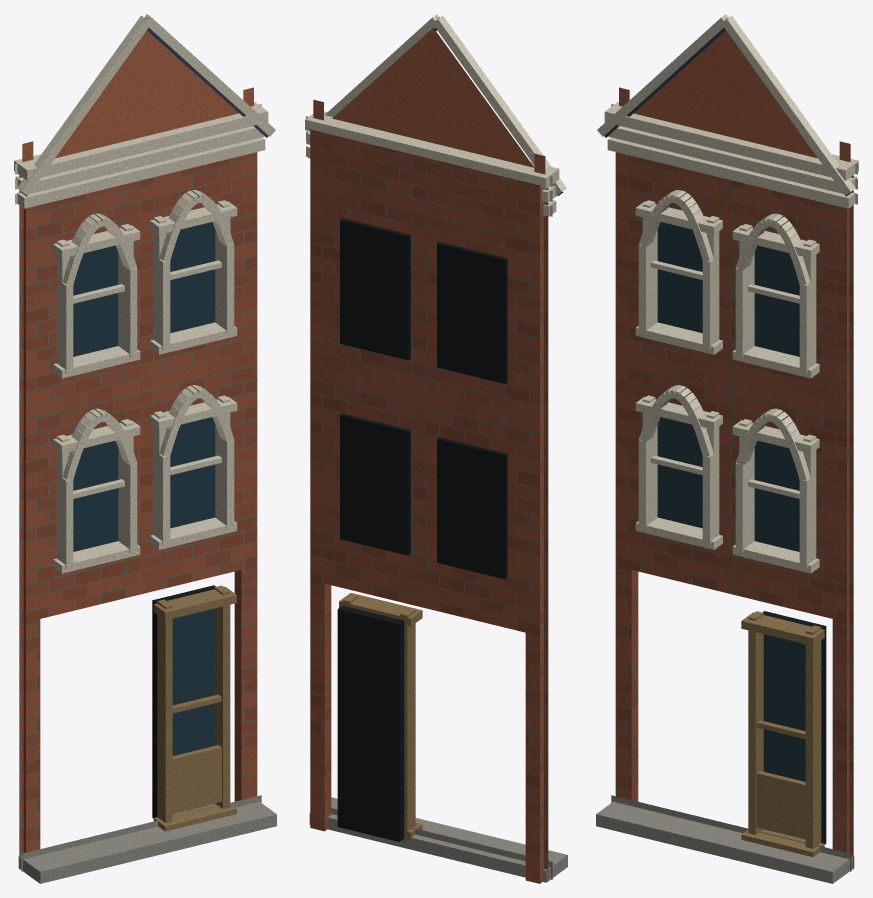
File: VICT34_lod2.glb
The picture shows the model from 3 angles, left to right: view 1: azimuth 30°, elevation 25°; view 2: azimuth 150°, elevation 25°; view 3: azimuth 330°, elevation 25°; orthographic projection.
Parts seen in each view (by area): view 1: VICT34_FRONT_LOD2; view 2: VICT34_FRONT_LOD2; view 3: VICT34_FRONT_LOD2.
Boxes of the visible parts, x1,y1,x2,y2 form: VICT34_FRONT_LOD2: (14,14,276,883); VICT34_FRONT_LOD2: (305,14,567,883); VICT34_FRONT_LOD2: (596,14,858,883).
Bounding box in the file's own units: 3.54 × 11.06 × 0.68.
9 materials, 7 textured.
